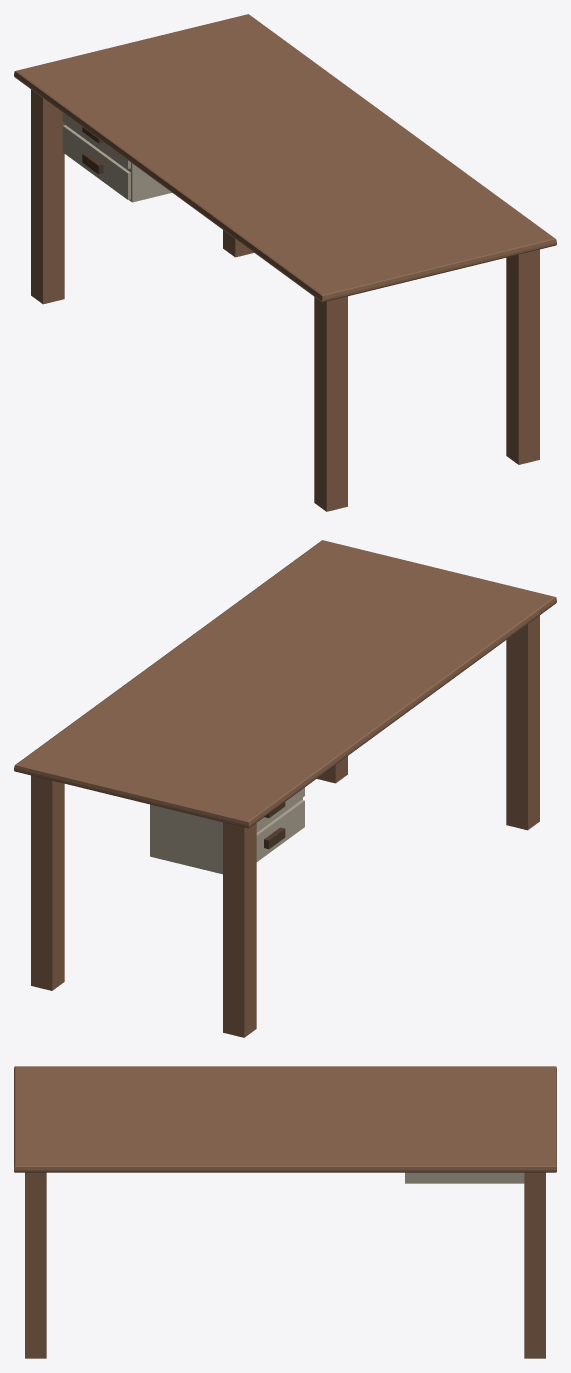
The model's file is Desk.fbx.
3 renders of one model, top to bottom at view 1: azimuth 30°, elevation 25°; view 2: azimuth 150°, elevation 25°; view 3: azimuth 270°, elevation 25°, orthographic. The views are drawn at different scales.
Parts seen in each view (by area): view 1: Desk; view 2: Desk; view 3: Desk.
Part boxes in pixels (x1,y1,x2,y2): Desk: (14,14,556,511); Desk: (14,540,556,1037); Desk: (14,1066,556,1358).
Size of the model in its own units: 220 by 200 by 500.
